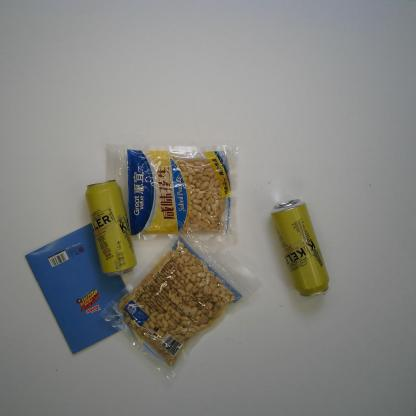Alcohol: (270, 194, 330, 300), (84, 179, 138, 278)
Dried Fruit: (100, 225, 260, 381), (102, 141, 243, 248)
Stationery: (25, 220, 144, 357)
